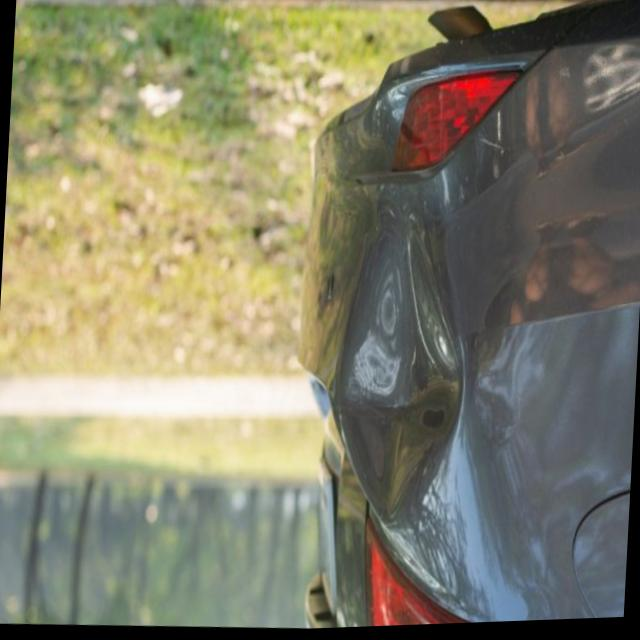Dent: (346, 201, 509, 501)
